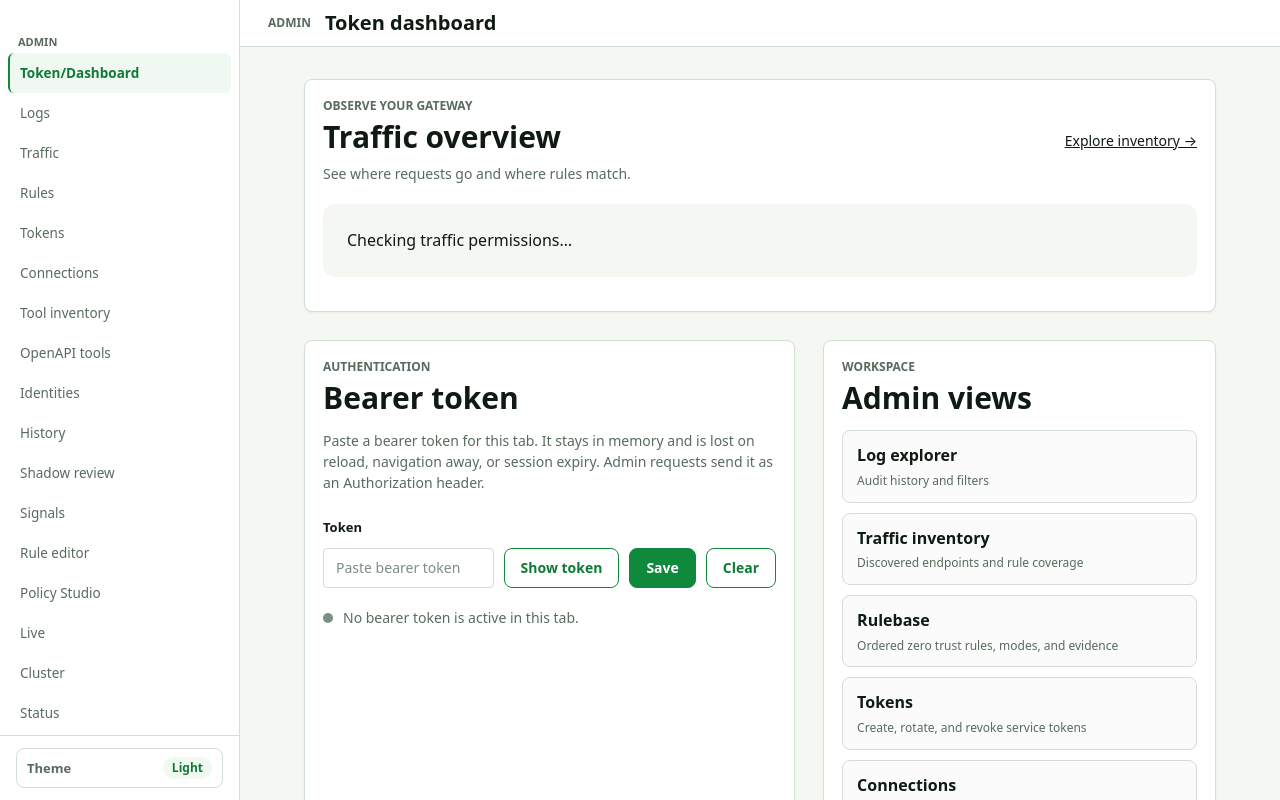
AdminShell › persists the selected color theme on the document element
The image size is (1280, 800).
(page scrolled)
Click the button with aria-label "Switch to dark theme" at (120, 768), box x1=16 y1=748 x2=223 y2=788
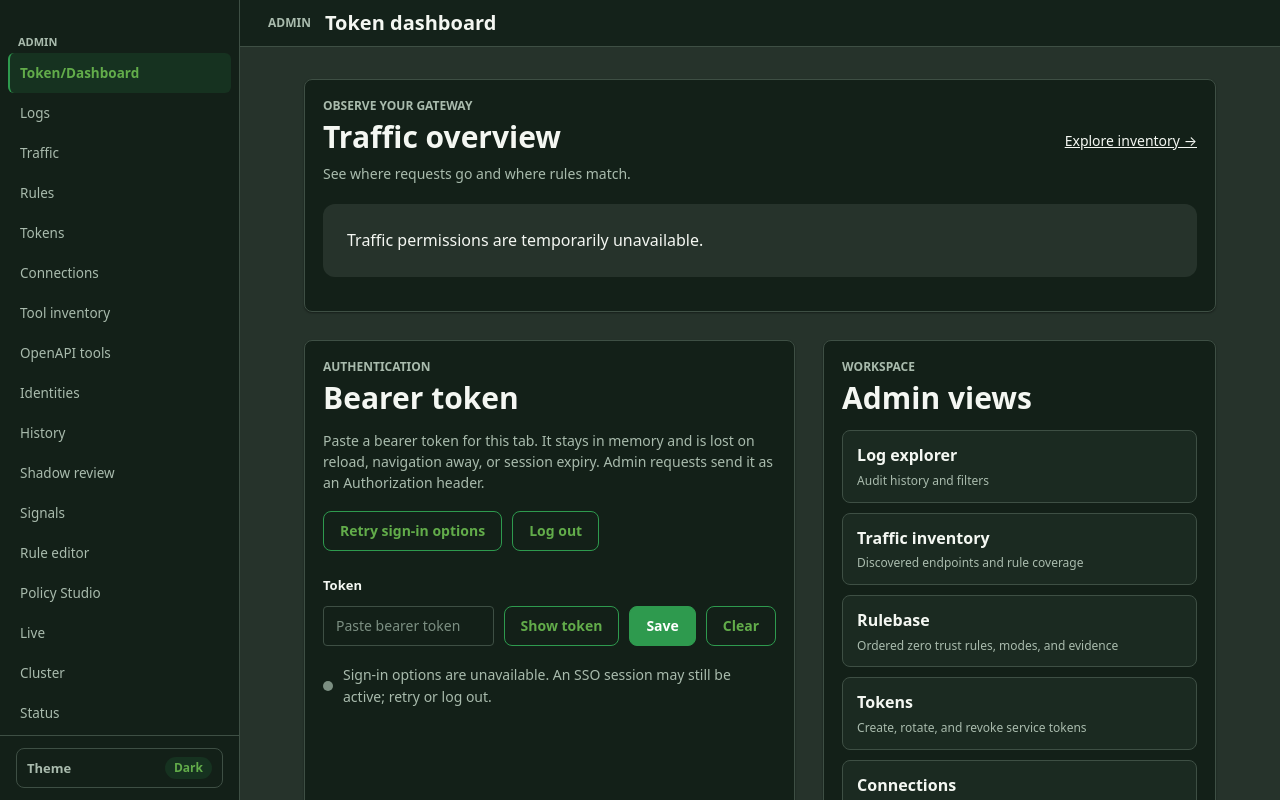
expect the button with aria-label "Switch to light theme" is shown: met, box x1=16 y1=748 x2=223 y2=788
